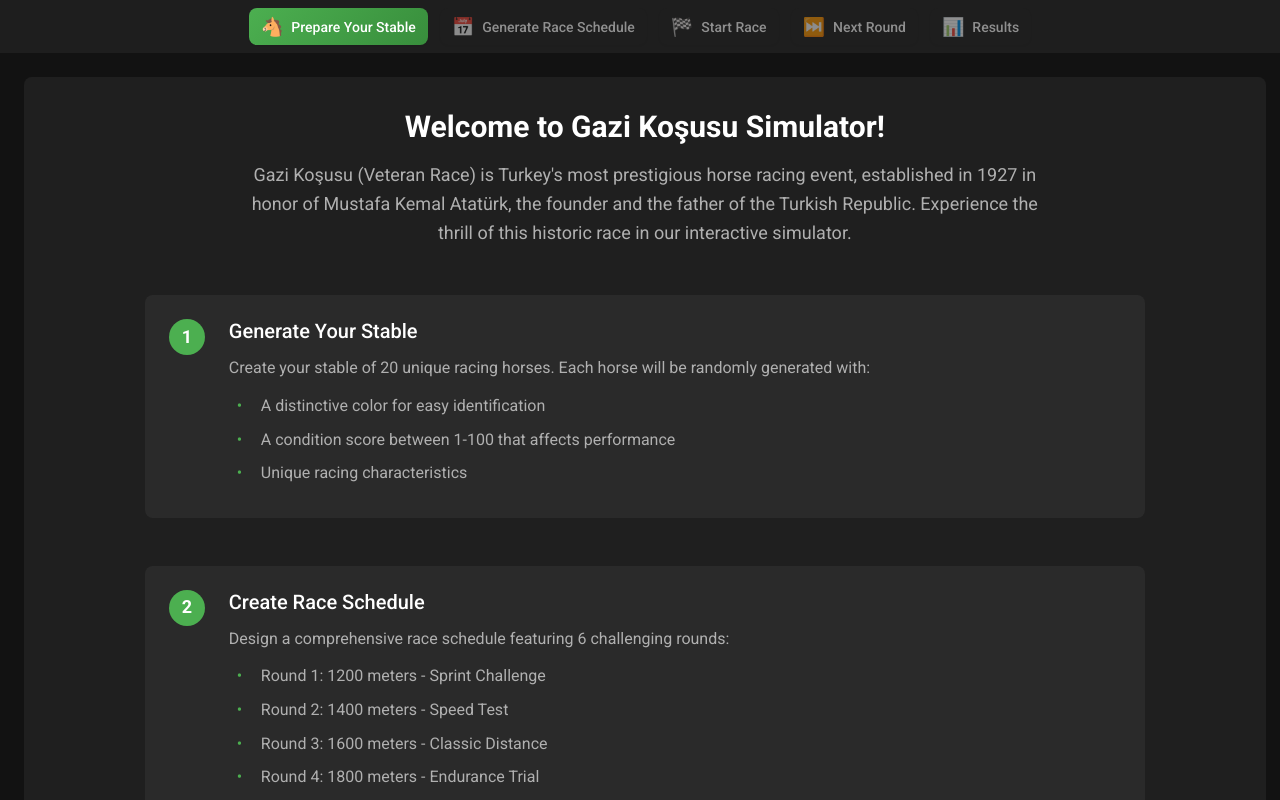
Test: Gallop Arena › should be able to generate horses and race schedule
// Generate horses
Click the button with test id "header-button-generate-horses".
click(339, 27)  # box x1=249 y1=8 x2=428 y2=45
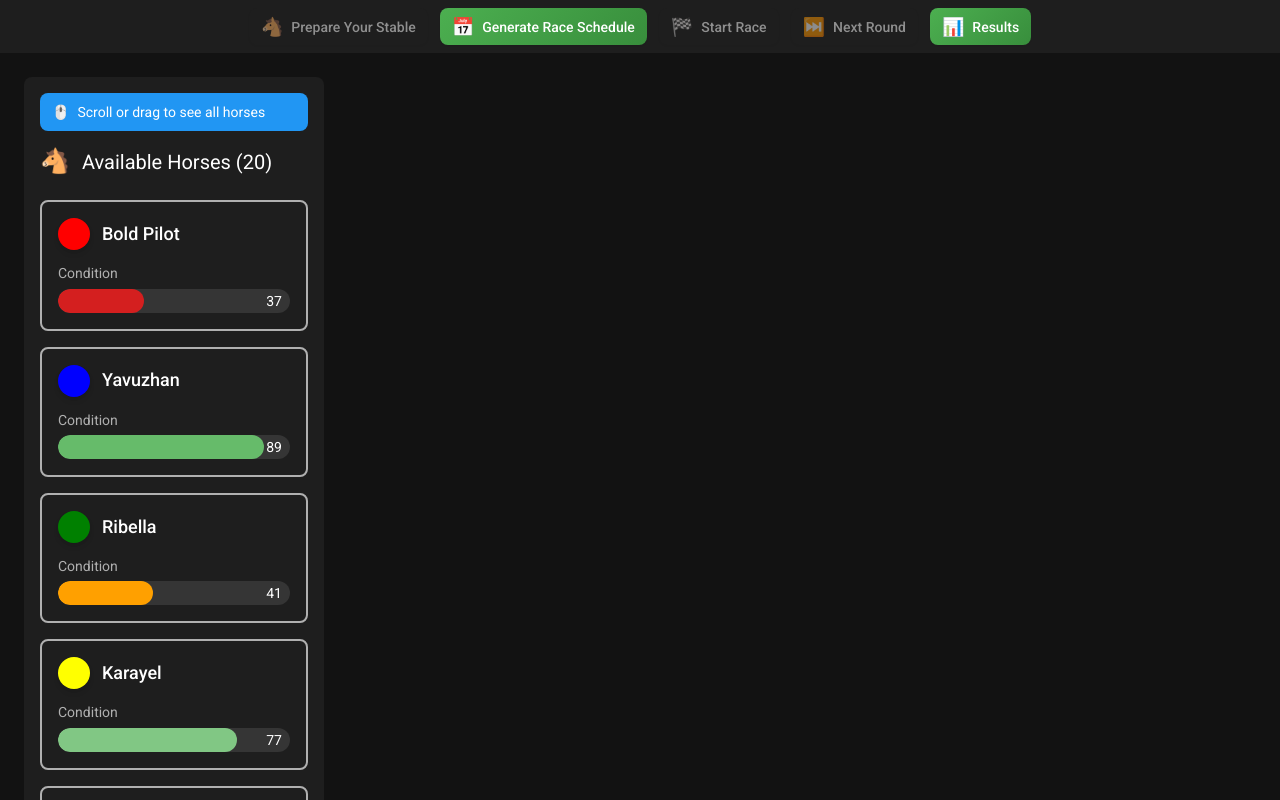
Now the element with test id "horse-list" is shown, box x1=24 y1=77 x2=324 y2=799
